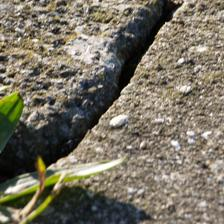Crack: (23, 4, 154, 158)
